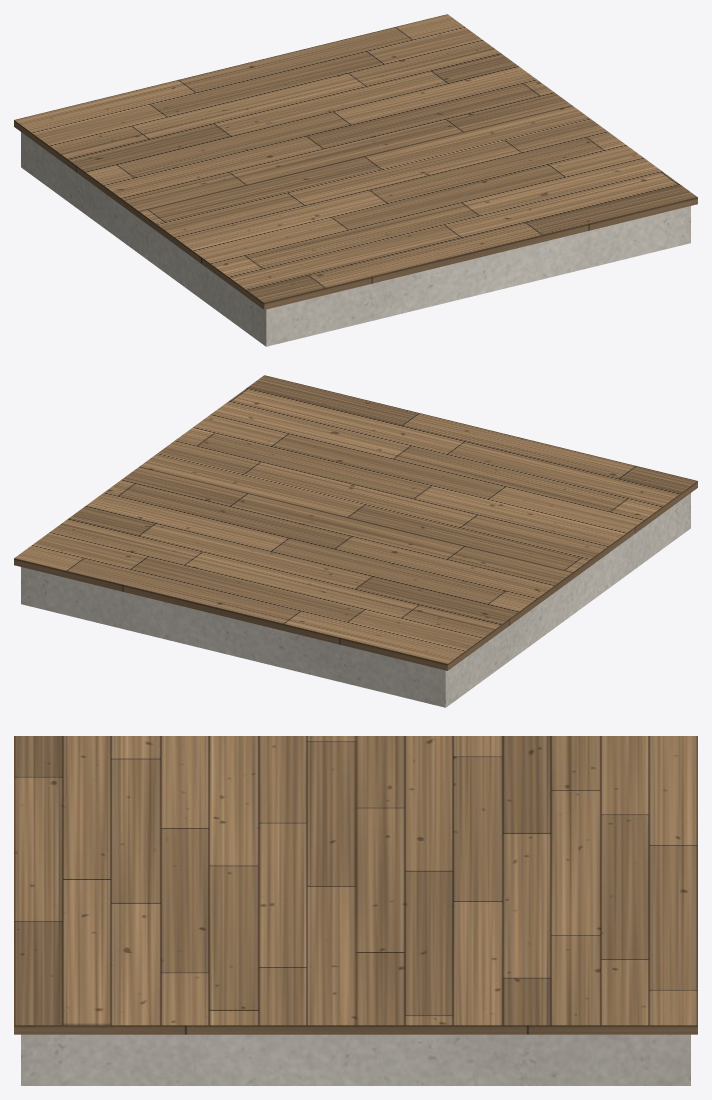
File: floor_wood_c.glb
The picture shows the model from 3 angles, top to bottom: view 1: azimuth 30°, elevation 25°; view 2: azimuth 150°, elevation 25°; view 3: azimuth 270°, elevation 25°; orthographic projection. The views are drawn at different scales.
Parts seen in each view (by area): view 1: floor_wood_c_attic, floor_wood_c_plaster; view 2: floor_wood_c_attic, floor_wood_c_plaster; view 3: floor_wood_c_attic, floor_wood_c_plaster.
Part boxes in pixels (<box>): floor_wood_c_attic: <box>14,14,697,309</box>; floor_wood_c_plaster: <box>21,132,690,346</box>; floor_wood_c_attic: <box>14,375,697,670</box>; floor_wood_c_plaster: <box>21,493,690,707</box>; floor_wood_c_attic: <box>14,736,697,1034</box>; floor_wood_c_plaster: <box>21,1034,690,1085</box>.
Bounding box in the file's own units: 2 × 0.205 × 2.
Materials: 2 (2 with a texture image).
